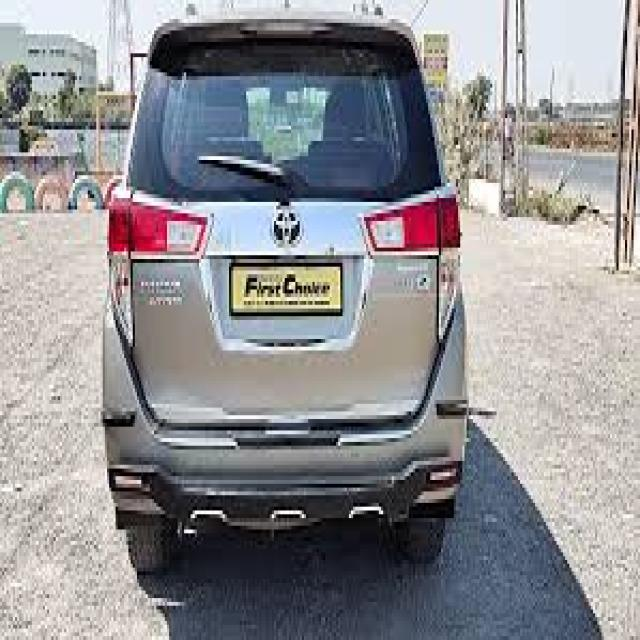light_vehicle: (102, 14, 468, 573)
